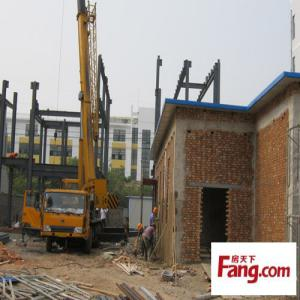yellow: (153, 208, 159, 216), (139, 224, 144, 232)
